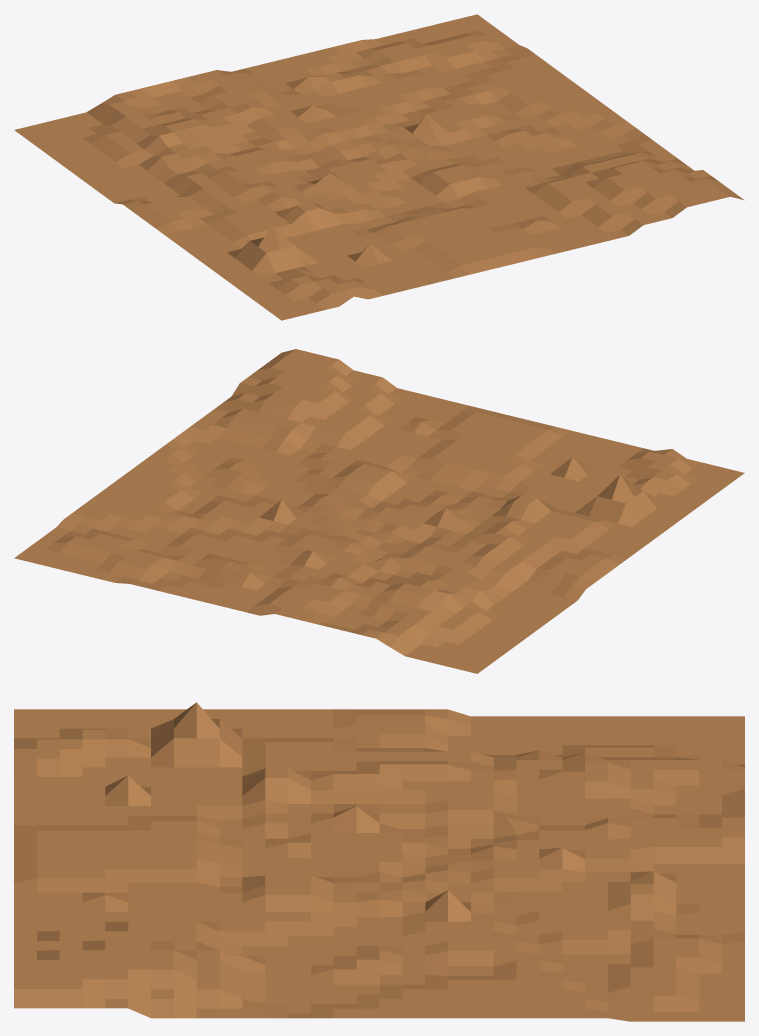
The model's file is samd.fbx.
3 views of the same model, one above another, from view 1: azimuth 30°, elevation 25°; view 2: azimuth 150°, elevation 25°; view 3: azimuth 270°, elevation 25° (orthographic). The views are drawn at different scales.
Parts seen in each view (by area): view 1: Plane; view 2: Plane; view 3: Plane.
Boxes of the visible parts, x1,y1,x2,y2 form: Plane: (14, 14, 744, 320); Plane: (14, 349, 744, 673); Plane: (14, 702, 744, 1021).
Size of the model in its own units: 34085 by 2717 by 34085.
